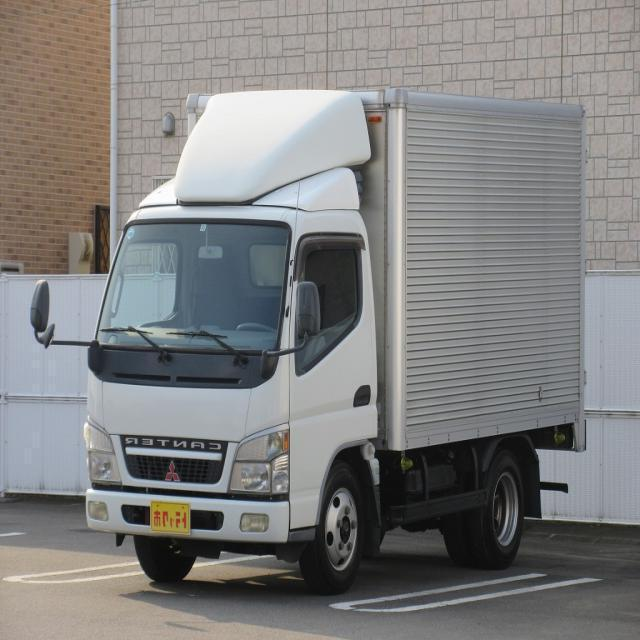truck: (19, 64, 600, 602)
